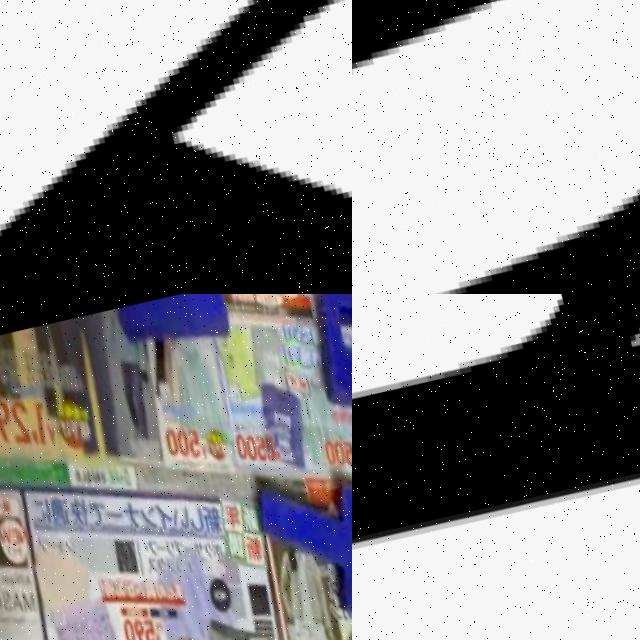B: (300, 294, 352, 436)
N: (352, 0, 640, 294)
R: (352, 294, 640, 599)
T: (248, 459, 352, 640)
V: (0, 0, 352, 294)
